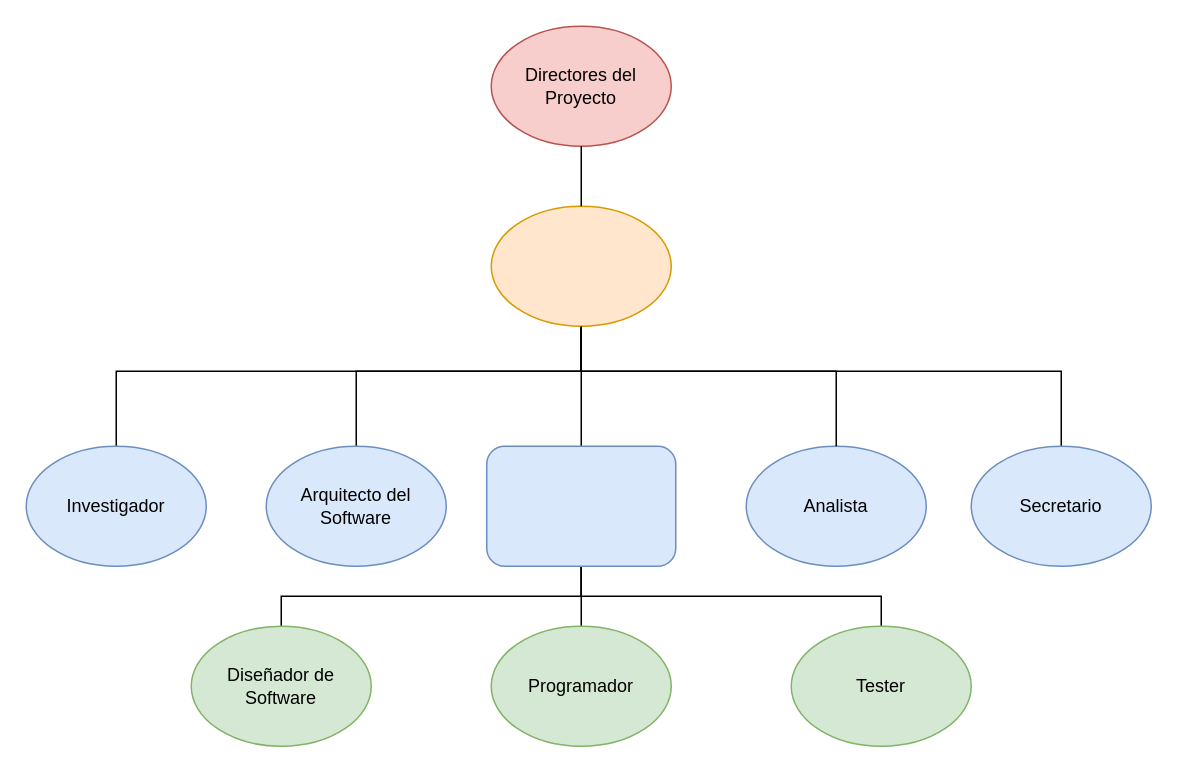
Image size: 1178x773. Some labels were removed from this diagram. Each missing label, with the centre of its shape:
Equipo de Desarrollo: [580,505]
Jefes del Proyecto: [580,265]
